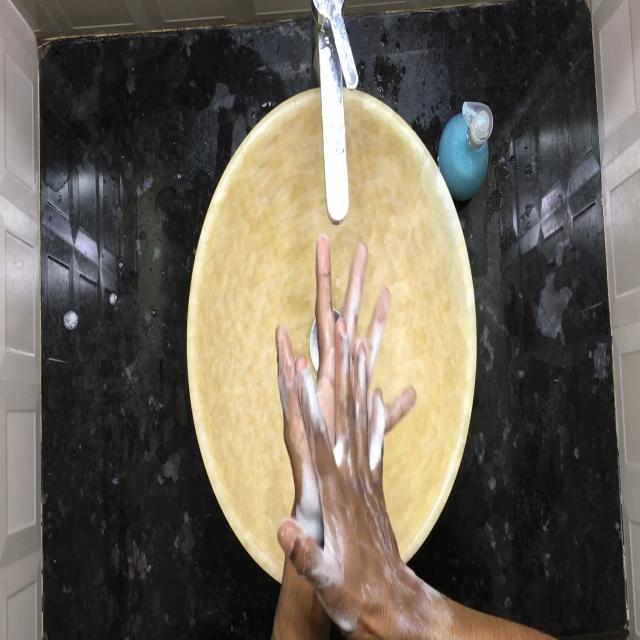step_3: (270, 235, 412, 565)
